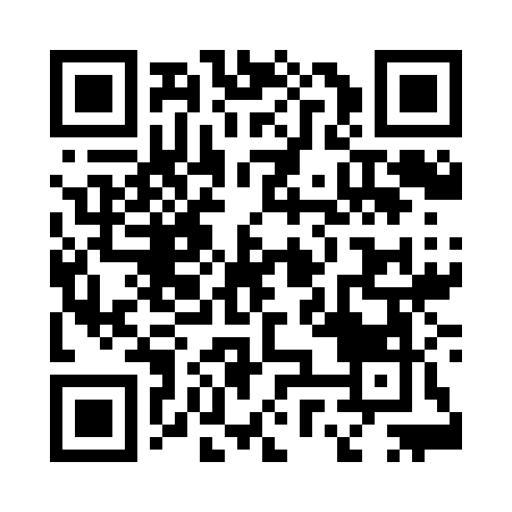qr_code: (49, 50, 463, 463)
